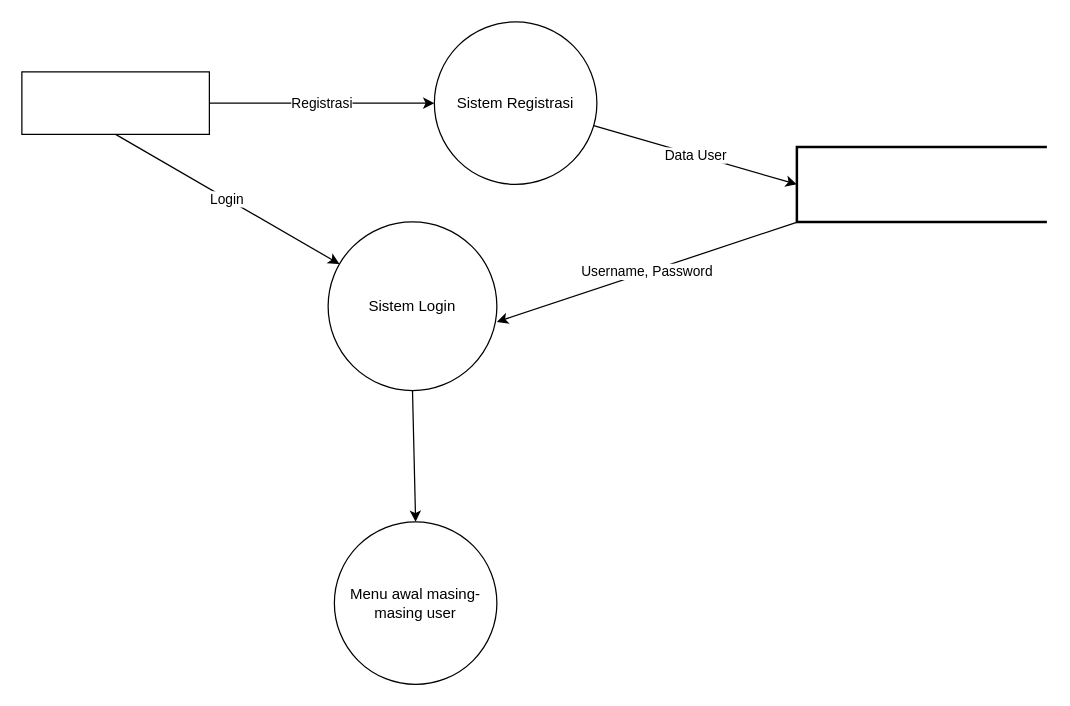
This 1070x706 diagram has some shape labels left out. The shapes that lost their labels are listed below. From the top down, each one's centre as x and y in pixels, then its label:
At [115,102]: "Users".
At [921,183]: "Data Users".
